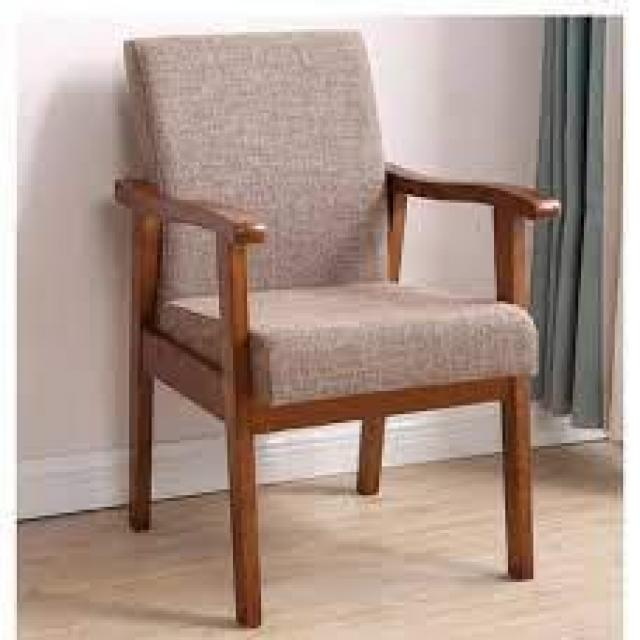chair: (97, 26, 571, 600)
